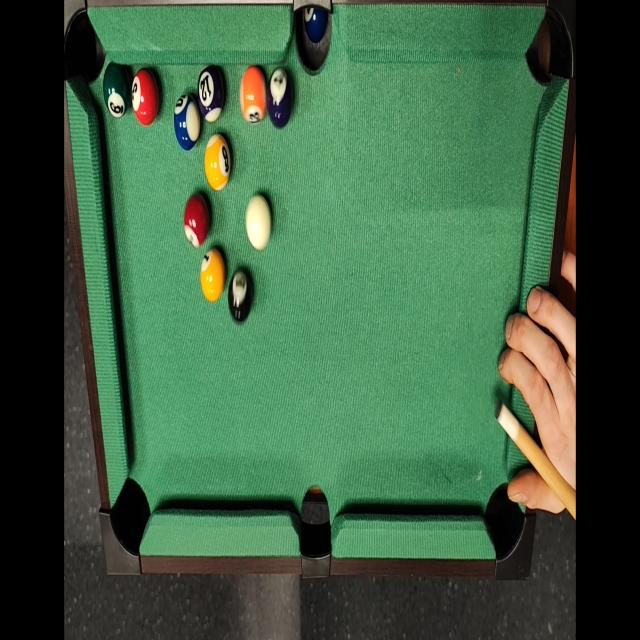cue ball: (244, 192, 274, 250)
other: (129, 64, 160, 131), (204, 128, 233, 195), (237, 66, 268, 128), (196, 62, 228, 122), (184, 189, 214, 253), (173, 92, 199, 160), (227, 264, 256, 324), (198, 244, 226, 306), (102, 60, 130, 122), (267, 64, 292, 125)
